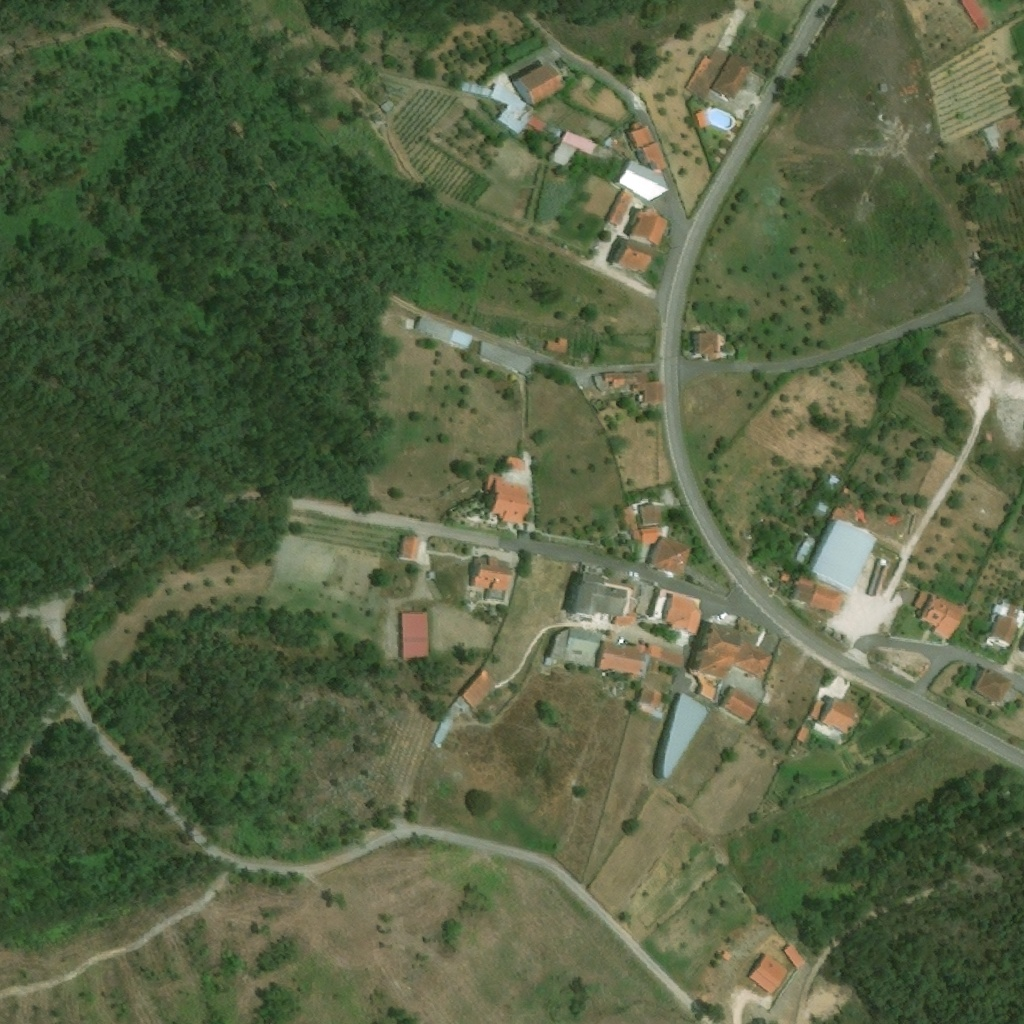0 no-damage: (689, 620, 773, 701), (807, 503, 879, 592), (656, 693, 710, 779), (460, 81, 546, 134), (562, 571, 637, 627), (646, 588, 701, 648), (913, 590, 969, 641), (542, 626, 606, 670), (482, 473, 530, 526), (592, 371, 663, 404), (612, 159, 667, 200), (808, 696, 864, 735), (511, 64, 560, 106), (469, 555, 513, 601), (711, 53, 753, 101), (477, 340, 533, 376), (646, 534, 691, 578), (413, 316, 473, 347), (548, 131, 597, 167), (596, 639, 645, 675), (970, 666, 1013, 706), (745, 953, 786, 994), (625, 207, 668, 246), (986, 603, 1023, 647), (609, 239, 657, 272), (460, 669, 498, 709), (806, 578, 846, 616), (603, 190, 641, 227), (399, 611, 429, 657), (720, 687, 758, 723), (785, 572, 817, 606), (958, 0, 992, 30), (632, 141, 666, 170), (647, 643, 683, 668), (690, 331, 722, 359), (625, 121, 654, 150), (635, 686, 663, 715), (619, 505, 639, 542), (780, 945, 806, 969), (431, 714, 451, 745), (397, 535, 420, 561), (793, 536, 815, 563), (640, 503, 665, 525), (981, 123, 999, 151), (543, 337, 567, 354), (639, 525, 660, 544), (810, 499, 829, 519), (443, 702, 464, 719), (452, 694, 470, 712), (896, 588, 914, 605), (504, 456, 525, 470), (796, 726, 810, 744), (458, 302, 470, 314), (825, 474, 838, 485), (779, 571, 790, 583), (721, 950, 730, 962), (426, 571, 435, 579)
4 un-classified: (734, 676, 745, 686)
